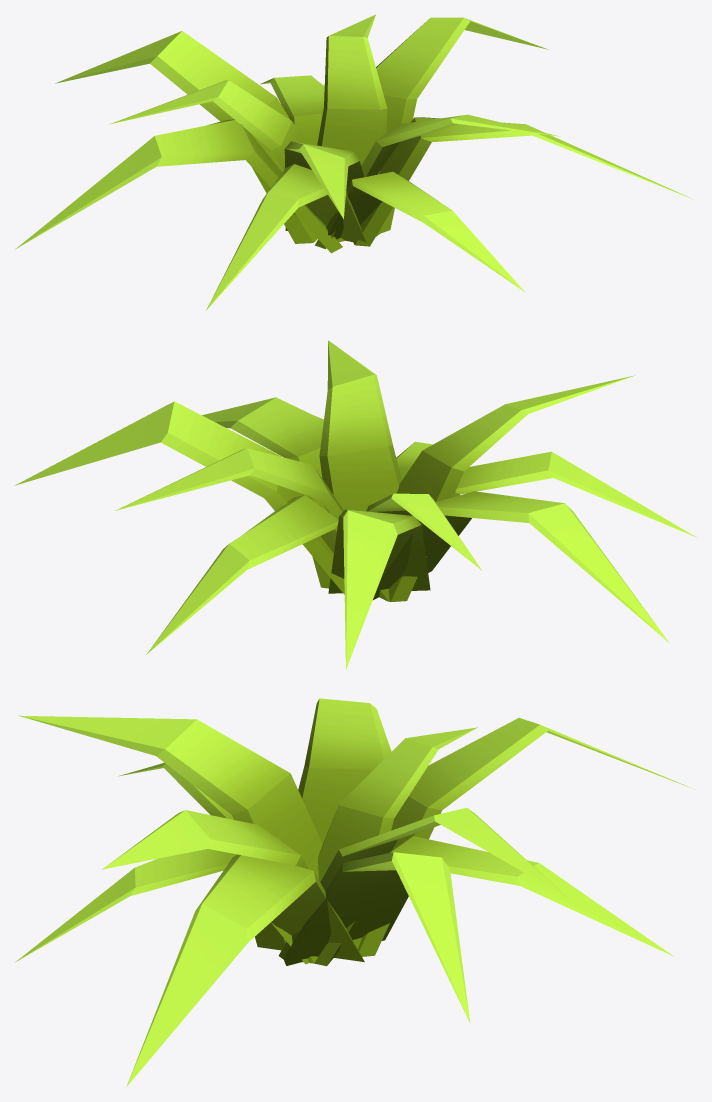
The model's file is pack01_foliage_28.fbx.
3 renders of one model, top to bottom at view 1: azimuth 30°, elevation 25°; view 2: azimuth 150°, elevation 25°; view 3: azimuth 270°, elevation 25°, orthographic. The views are drawn at different scales.
Visible parts, largest first — view 1: Grass_bush_low_01; view 2: Grass_bush_low_01; view 3: Grass_bush_low_01.
Part boxes in pixels (x1=…): Grass_bush_low_01: x1=15, y1=14, x2=693, y2=310; Grass_bush_low_01: x1=14, y1=340, x2=696, y2=669; Grass_bush_low_01: x1=15, y1=698, x2=695, y2=1086.
Size of the model in its own units: 196 by 48.89 by 165.
Materials: 1 (1 with a texture image).
